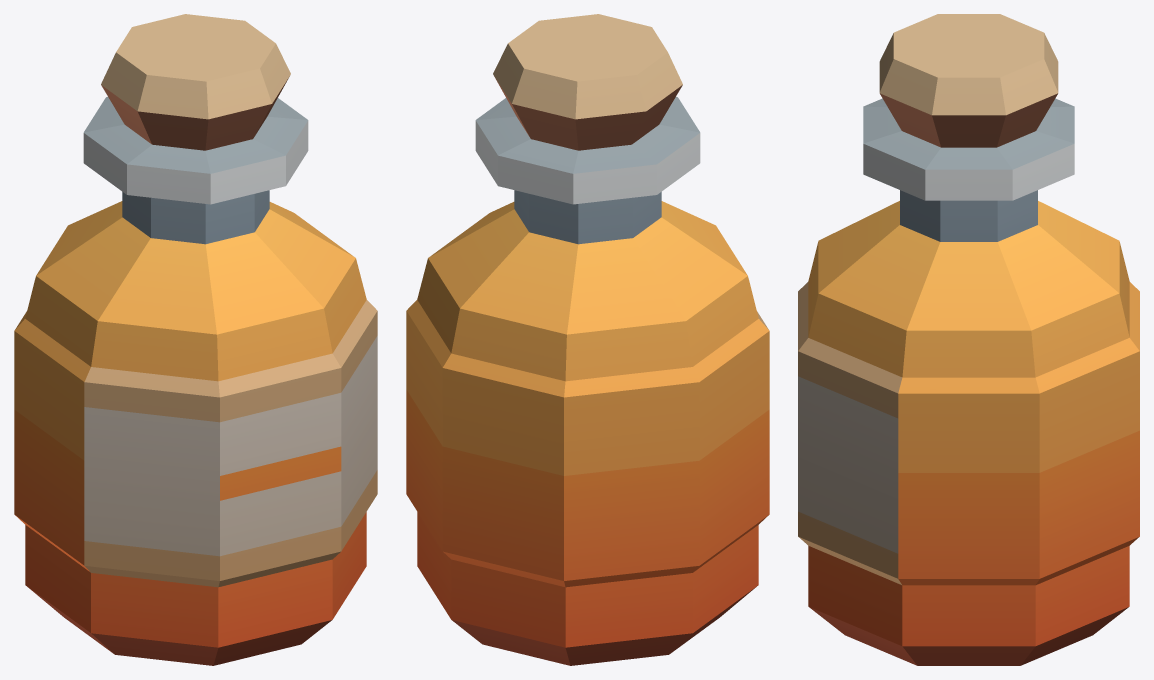
Rendered from source.glb.
3 views of the same model, side by side, from view 1: azimuth 30°, elevation 25°; view 2: azimuth 150°, elevation 25°; view 3: azimuth 270°, elevation 25° (orthographic).
Visible parts, largest first — view 1: model; view 2: model; view 3: model.
Boxes of the visible parts, x1,y1,x2,y2 form: model: (14, 14, 377, 665); model: (406, 14, 769, 665); model: (798, 14, 1139, 665).
Size of the model in its own units: 0.48 by 0.88 by 0.48.
Materials: 1 (1 with a texture image).
